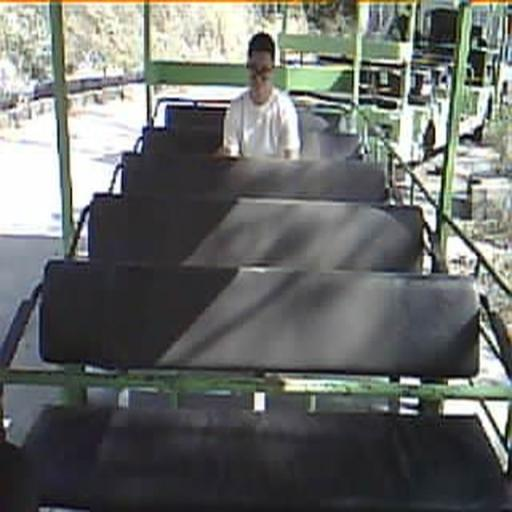persona: (221, 32, 302, 160)
